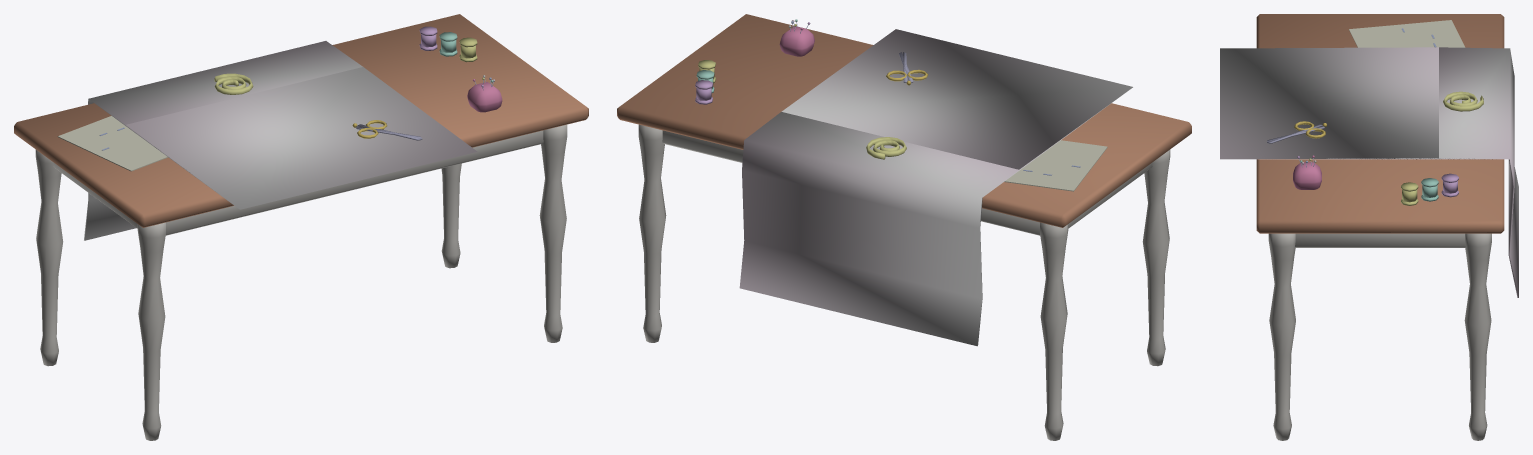
Rendered from seam_worktable.glb.
3 views of the same model, side by side, from view 1: azimuth 30°, elevation 25°; view 2: azimuth 150°, elevation 25°; view 3: azimuth 270°, elevation 25° (orthographic). The views are drawn at different scales.
Parts seen in each view (by area): view 1: seam_worktable; view 2: seam_worktable; view 3: seam_worktable.
Part boxes in pixels (x1,y1,x2,y2): seam_worktable: (14,14,588,440); seam_worktable: (617,14,1191,440); seam_worktable: (1220,14,1518,440).
Size of what is drawn, in the model's own units: 1.7 by 0.962 by 1.02.
